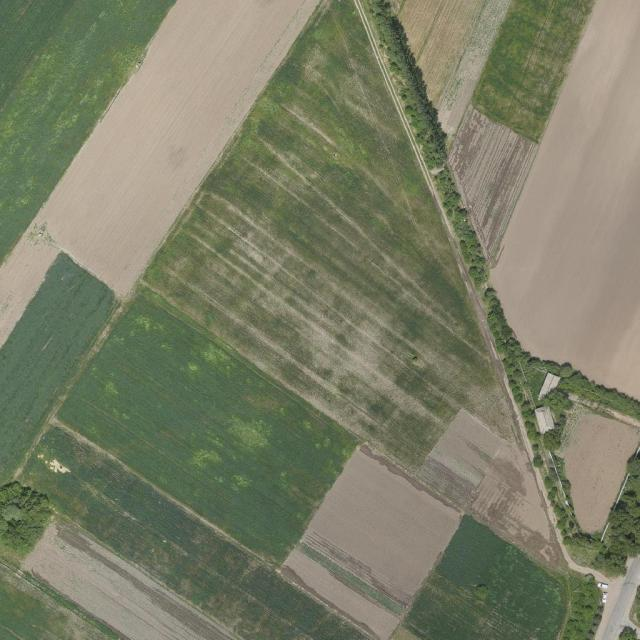agricultural_land: (73, 0, 528, 544), (414, 406, 601, 574), (20, 514, 240, 640), (418, 104, 544, 263), (465, 0, 594, 144), (371, 0, 484, 109)
greenland: (53, 290, 364, 568), (445, 249, 640, 475), (362, 0, 502, 290), (400, 514, 588, 640), (0, 481, 52, 551), (560, 572, 608, 640), (557, 526, 605, 570), (541, 472, 560, 491)
